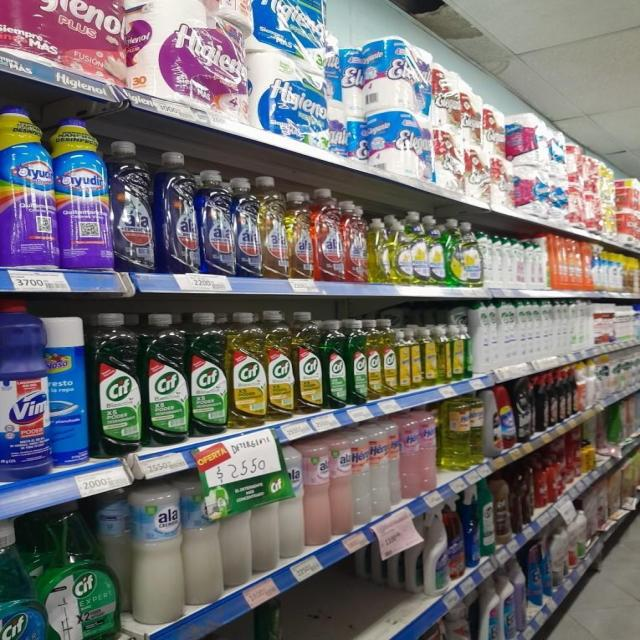ala_conc_amarillo: (260, 176, 286, 279), (288, 190, 314, 281)
ala_conc_azul: (112, 139, 154, 273), (156, 148, 198, 274), (199, 168, 234, 276), (234, 174, 260, 277)
ala_conc_rojo: (315, 188, 343, 283), (344, 202, 367, 282)
ala_crem_blanco: (129, 482, 183, 625), (353, 422, 371, 526)
ala_crem_rosado: (304, 438, 330, 548), (331, 433, 353, 536)
cif_conc_bot_amarilla: (229, 310, 265, 428), (266, 310, 293, 420), (294, 312, 322, 415), (382, 318, 397, 396), (367, 318, 381, 401), (398, 323, 410, 392)
cif_conc_botella_verde: (90, 312, 142, 457), (143, 312, 187, 446), (189, 311, 228, 436), (322, 318, 346, 410), (347, 318, 366, 405)
heroe: (419, 406, 438, 493)
magistral_con_amarillo: (390, 213, 412, 285), (368, 216, 390, 283), (411, 212, 427, 286)
